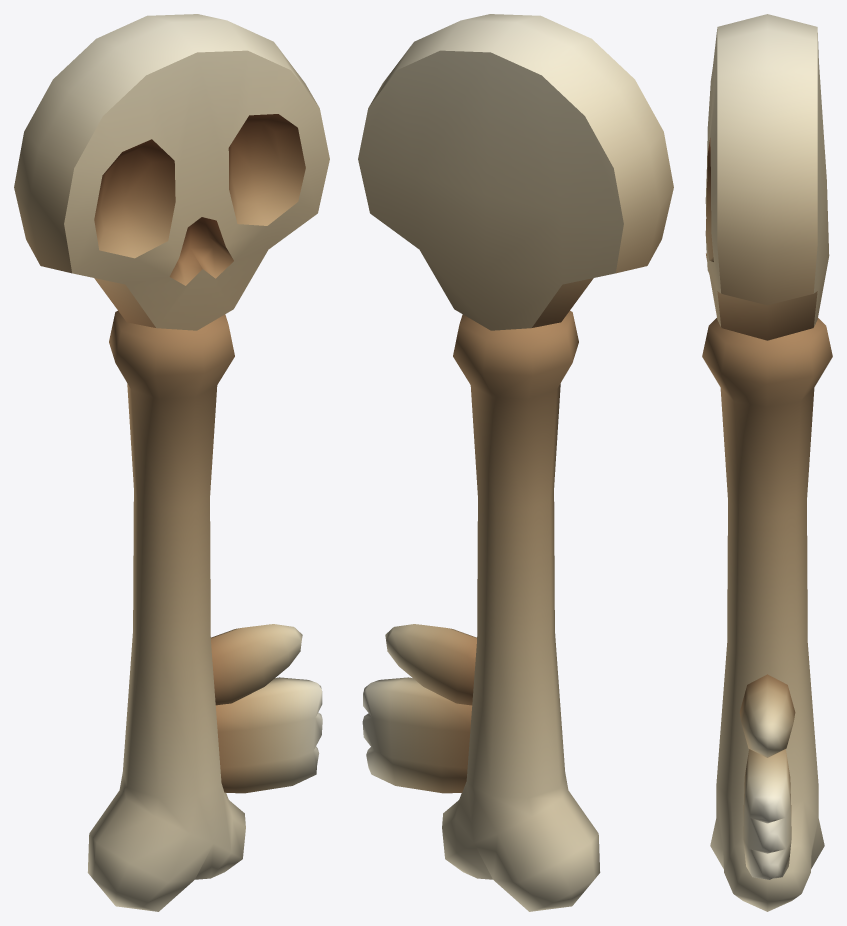
Rendered from Bone_Key_01.glb.
3 renders of one model, left to right at view 1: azimuth 30°, elevation 25°; view 2: azimuth 150°, elevation 25°; view 3: azimuth 270°, elevation 25°, orthographic.
Visible parts, largest first — view 1: Bone_Key_01; view 2: Bone_Key_01; view 3: Bone_Key_01.
Boxes of the visible parts, box(x1,y1,x2,y2) form: Bone_Key_01: box(14, 14, 329, 911); Bone_Key_01: box(358, 14, 673, 911); Bone_Key_01: box(702, 14, 832, 911).
Size of the model in its own units: 0.3311 by 0.9428 by 0.1271.
1 material, 1 textured.
